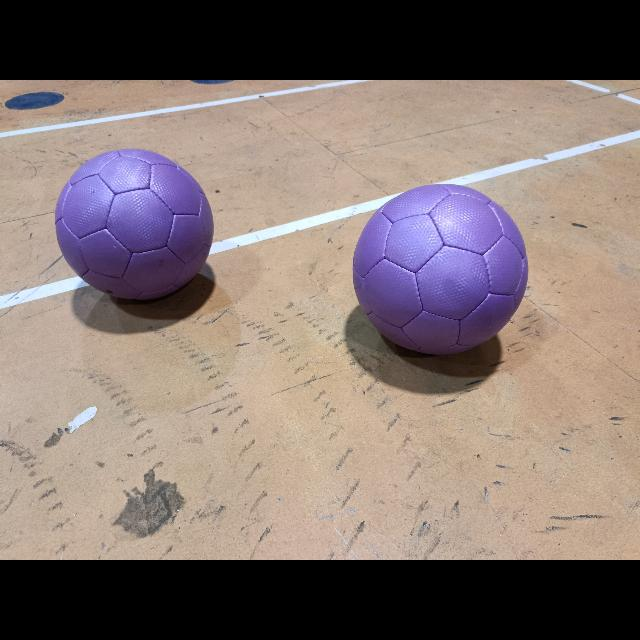P: (352, 184, 528, 354), (55, 149, 213, 299)
